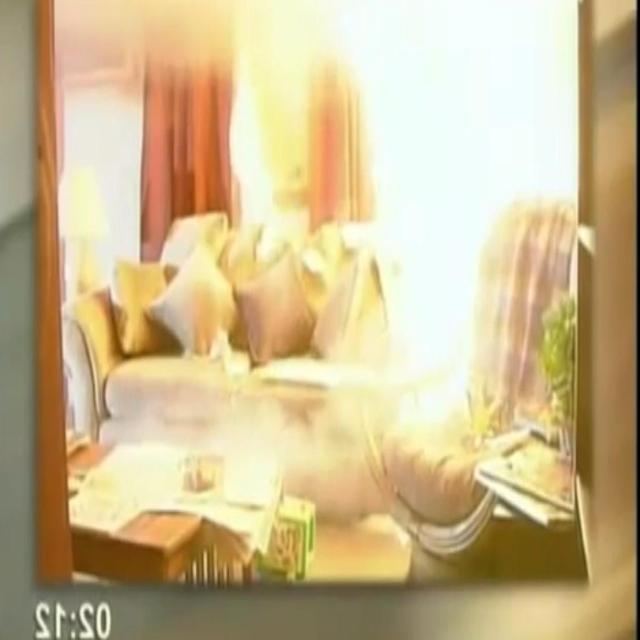smoke: (380, 49, 490, 422)
